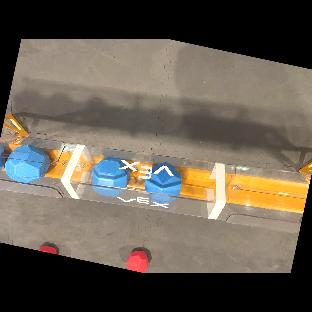V5_RED: (122, 248, 152, 273), (37, 243, 59, 255)
blueingoal: (0, 137, 57, 189), (141, 157, 189, 209), (86, 154, 132, 197), (0, 140, 8, 179)
